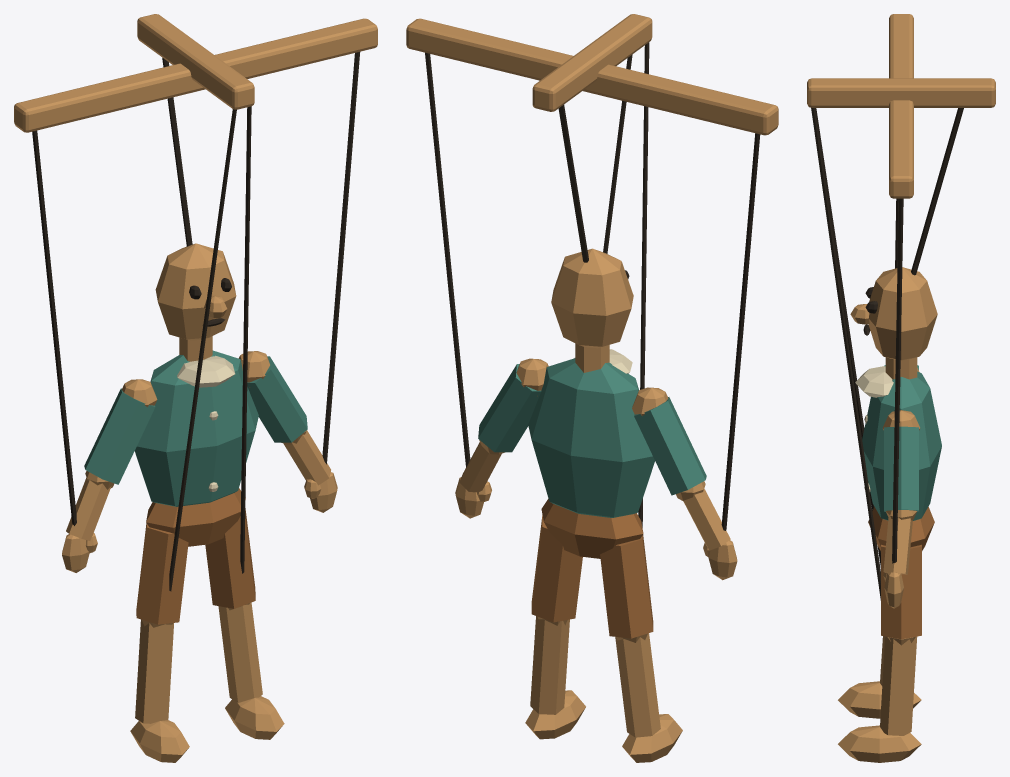
Rendered from NEW_RECOVERY_105_LOD2.glb.
3 renders of one model, left to right at view 1: azimuth 30°, elevation 25°; view 2: azimuth 150°, elevation 25°; view 3: azimuth 270°, elevation 25°, orthographic. The views are drawn at different scales.
Visible parts, largest first — view 1: Marionette_static_LOD2; view 2: Marionette_static_LOD2; view 3: Marionette_static_LOD2.
Boxes of the visible parts, <box> form: Marionette_static_LOD2: <box>14,14,377,762</box>; Marionette_static_LOD2: <box>406,14,778,762</box>; Marionette_static_LOD2: <box>807,14,995,762</box>.
Size of the model in its own units: 1.35 by 2.5 by 0.65.
